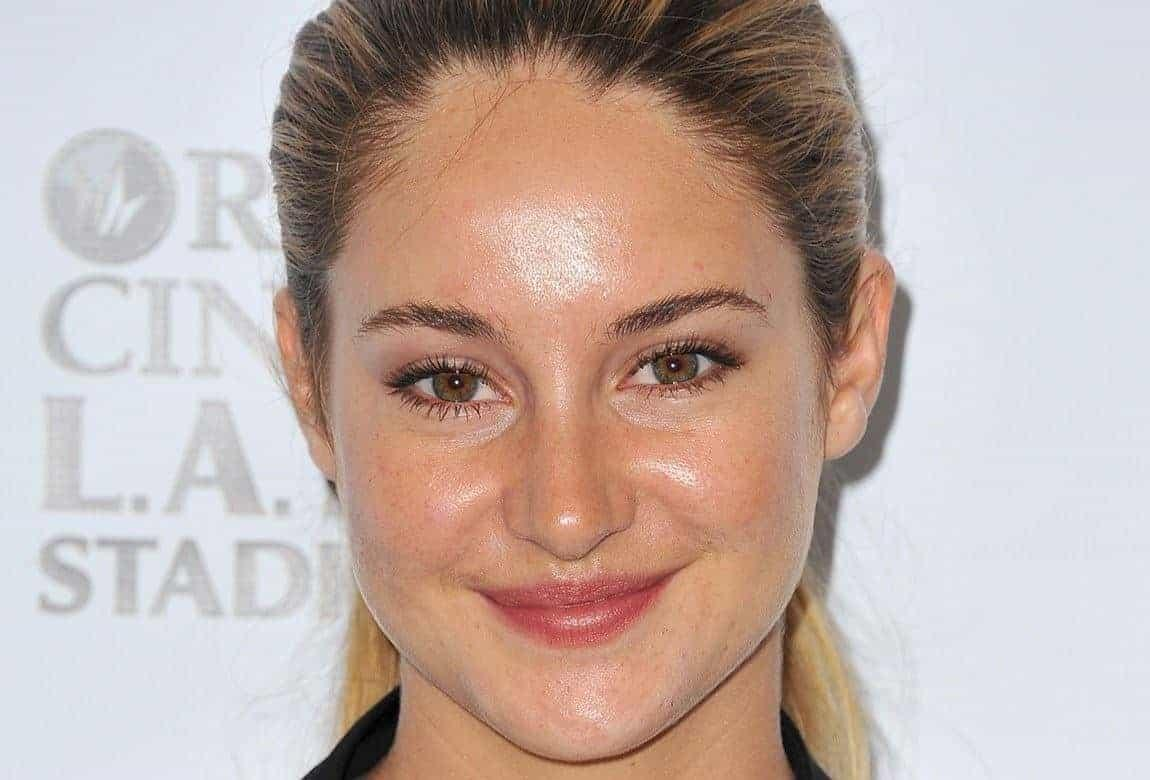Oily-Skin: (474, 190, 620, 306), (544, 661, 629, 729), (630, 449, 708, 502), (540, 342, 579, 429), (435, 475, 503, 524), (555, 511, 581, 529)
